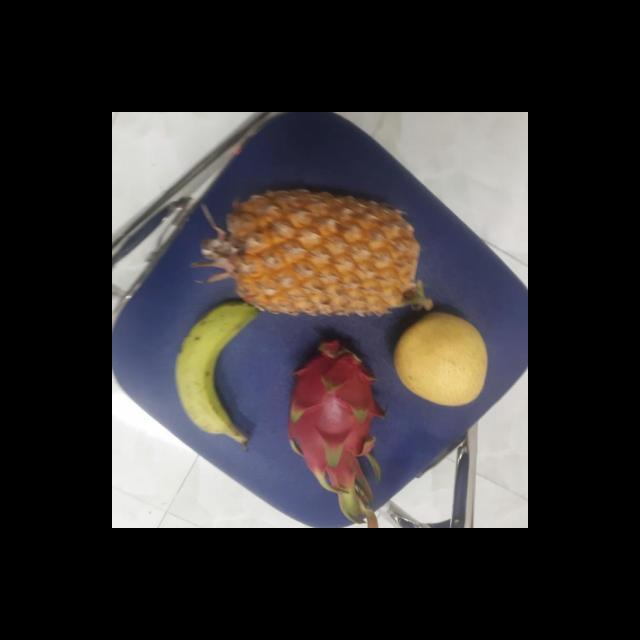banana: (168, 304, 260, 444)
pear: (389, 314, 489, 405)
pineapple: (200, 184, 422, 314)
pitaya: (286, 344, 383, 490)
